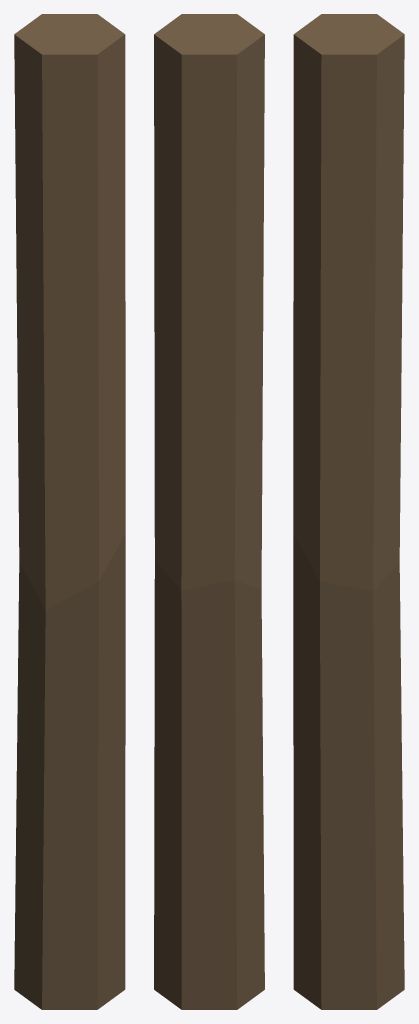
The model's file is SM_Props_City_Beach_Pier_Post_02.fbx.
The picture shows the model from 3 angles, left to right: view 1: azimuth 90°, elevation 25°; view 2: azimuth 210°, elevation 25°; view 3: azimuth 270°, elevation 25°; orthographic projection.
Visible parts, largest first — view 1: SM_Props_City_Beach_Pier_Post_02; view 2: SM_Props_City_Beach_Pier_Post_02; view 3: SM_Props_City_Beach_Pier_Post_02.
Part boxes in pixels (x1,y1,x2,y2): SM_Props_City_Beach_Pier_Post_02: (14,14,125,1009); SM_Props_City_Beach_Pier_Post_02: (154,14,264,1009); SM_Props_City_Beach_Pier_Post_02: (293,14,404,1009).
Bounding box in the file's own units: 17.32 × 190 × 20.09.
